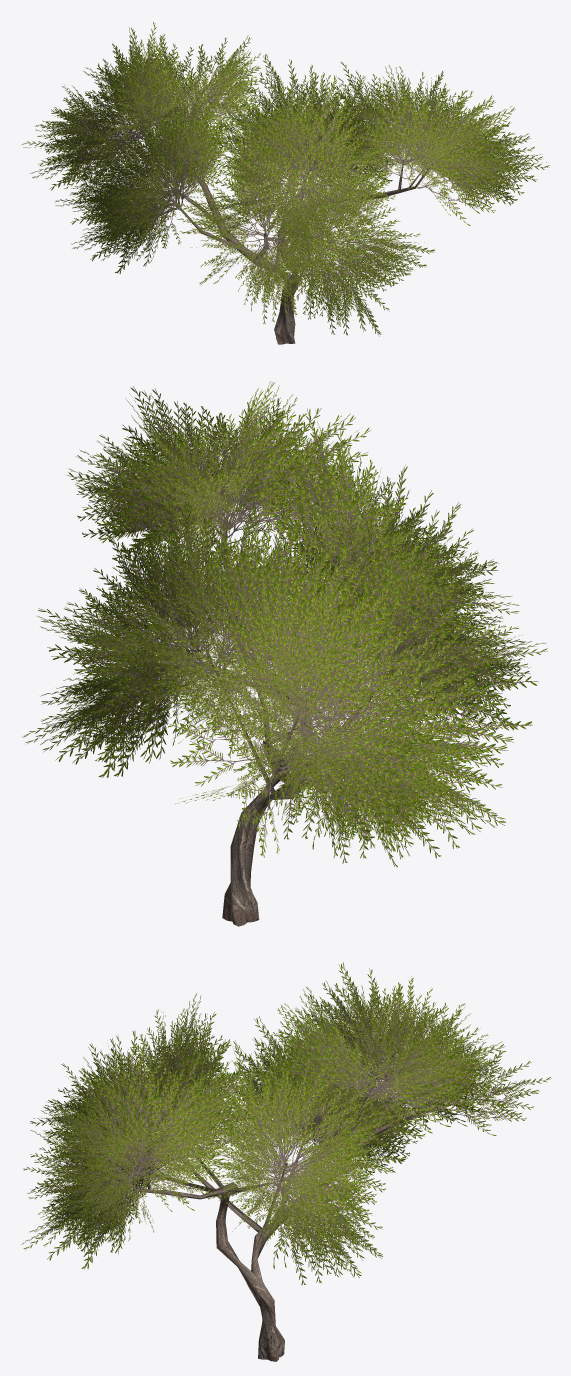
File: acacia.obj
3 renders of one model, top to bottom at view 1: azimuth 30°, elevation 25°; view 2: azimuth 150°, elevation 25°; view 3: azimuth 270°, elevation 25°, orthographic. The views are drawn at different scales.
Visible parts, largest first — view 1: trees\acacia\acacia branch, textures\bark\bark04; view 2: trees\acacia\acacia branch, textures\bark\bark04; view 3: trees\acacia\acacia branch, textures\bark\bark04.
Boxes of the visible parts, <box> form: trees\acacia\acacia branch: <box>22,22,549,336</box>; textures\bark\bark04: <box>123,113,433,344</box>; trees\acacia\acacia branch: <box>22,381,547,867</box>; textures\bark\bark04: <box>196,498,408,926</box>; trees\acacia\acacia branch: <box>22,962,550,1284</box>; textures\bark\bark04: <box>109,1087,433,1361</box>.
Size of the model in its own units: 16.29 by 12.45 by 17.25.
2 materials, 2 textured.
